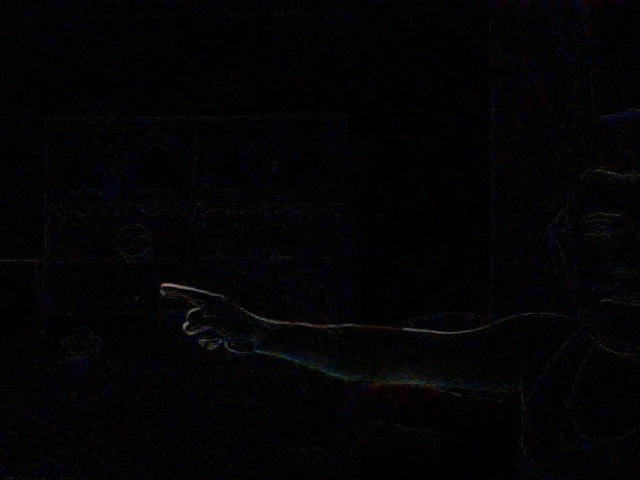hand_po: (151, 267, 253, 357)
